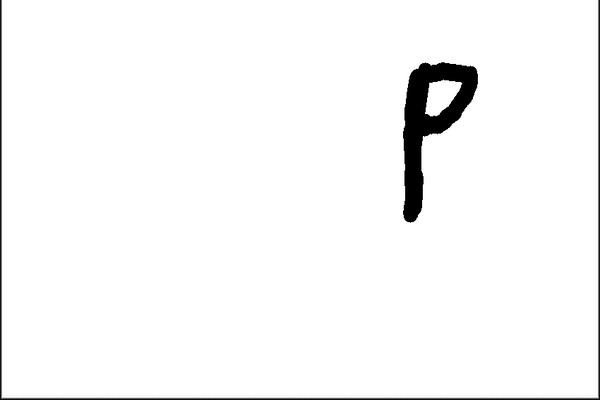P: (388, 49, 480, 223)
